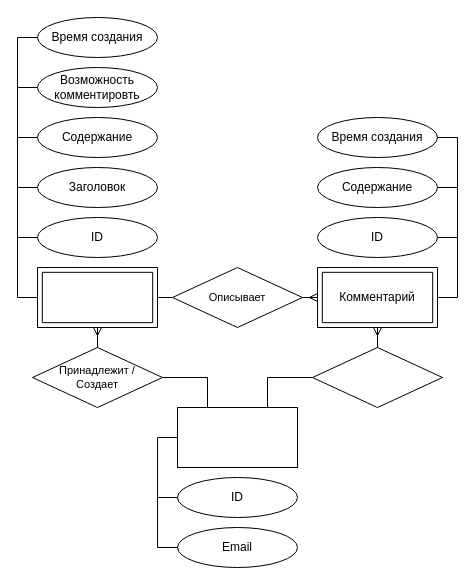
This 476x585 diagram has some shape labels left out. Each missing label, with the centre of its shape:
"Пользователь" goes at (237,437).
"Пост" goes at (97,297).
"Принадлежит / Оставляет" goes at (377,377).
